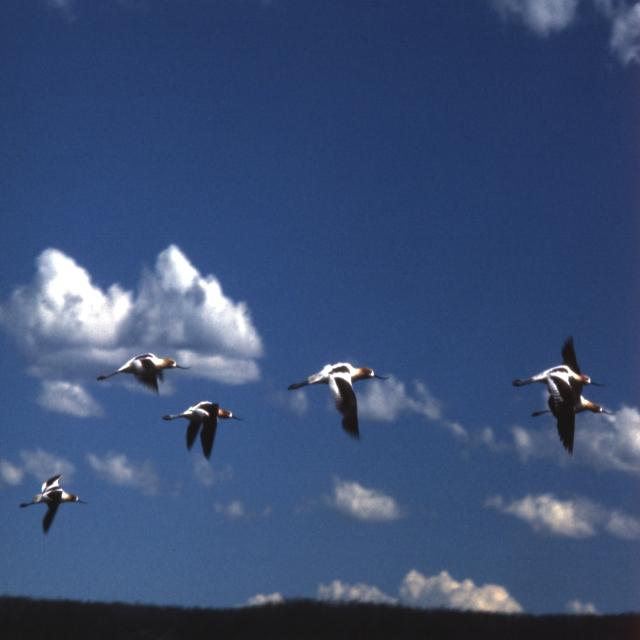bird: (509, 334, 609, 461), (287, 360, 381, 446), (164, 401, 241, 462), (18, 476, 86, 536), (98, 352, 185, 396)
